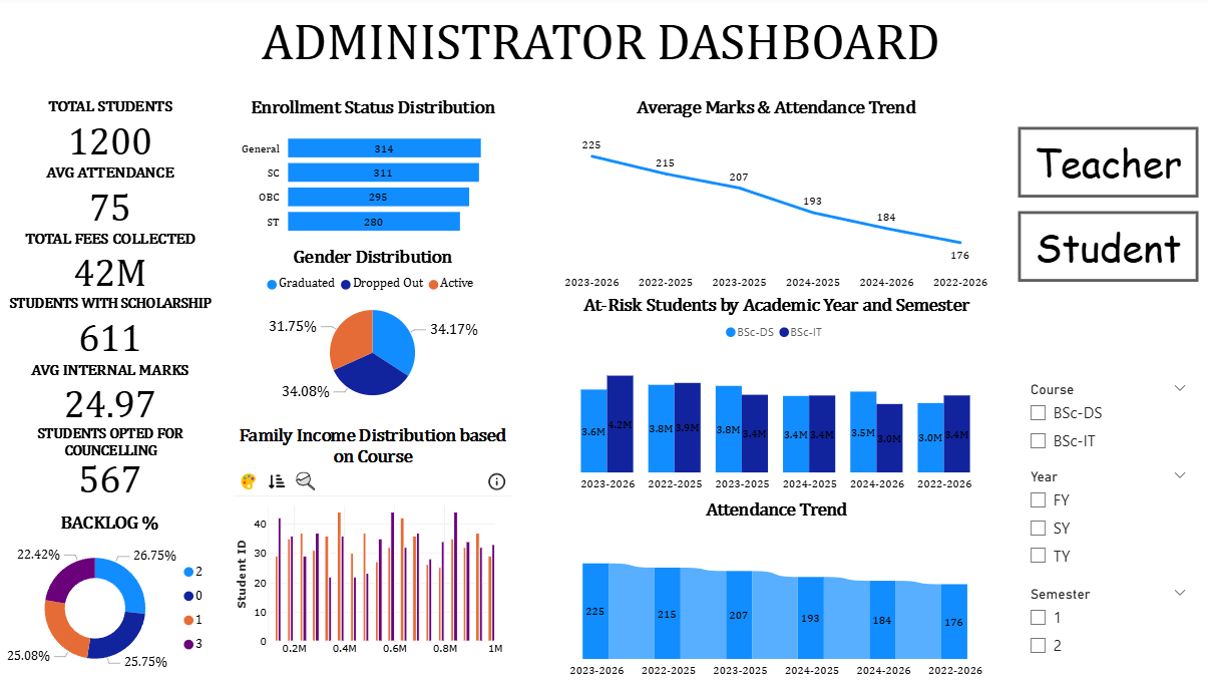

What the dashboard file says about the page in this screenshot:
{"tool":"powerbi","page":{"name":"Administrator","canvas":[1280,720],"ordinal":0},"visuals":[{"type":"card","title":"TOTAL STUDENTS","fields":{"Values":["CountNonNull(fake_student_performance_dataset.Student ID)"]},"box":[9.8,107.7,223.8,68.6],"z":0},{"type":"card","title":"TOTAL FEES COLLECTED","fields":{"Values":["Sum(fake_student_performance_dataset.Fees Paid)"]},"box":[9.5,245.7,223.7,67.7],"z":1000},{"type":"card","title":"AVG ATTENDANCE","fields":{"Values":["Avg(fake_student_performance_dataset.Attendance %)"]},"box":[9.5,176.4,223.7,69.3],"z":2000},{"type":"card","title":"STUDENTS WITH SCHOLARSHIP","fields":{"Values":["at_risk_predictions.ScholarshipReceivedCount"]},"box":[9.8,313.4,223.8,68.6],"z":3000},{"type":"clusteredBarChart","title":"Enrollment Status Distribution","fields":{"Y":["CountNonNull(fake_student_performance_dataset.Performance Level)"],"Category":["fake_student_performance_dataset.Caste"]},"box":[245.7,107.1,300.8,154.4],"z":4000},{"type":"clusteredColumnChart","title":"At-Risk Students by Academic Year and Semester","fields":{"Y":["Sum(fake_student_performance_dataset.Fees Paid)"],"Category":["fake_student_performance_dataset.Academic Year"],"Series":["fake_student_performance_dataset.Course"]},"box":[581.2,313.4,475.7,211.1],"z":5000},{"type":"pieChart","title":"Gender Distribution","fields":{"Y":["CountNonNull(fake_student_performance_dataset.Student ID)"],"Category":["fake_student_performance_dataset.Enrollment Status"]},"box":[246.2,263,300.8,172.1],"z":6000},{"type":"lineChart","title":"Average Marks & Attendance Trend","fields":{"Category":["fake_student_performance_dataset.Academic Year"],"Y":["CountNonNull(fake_student_performance_dataset.Student ID)"]},"box":[581.2,107.1,475.7,206.3],"z":7000},{"type":"card","title":"AVG INTERNAL MARKS","fields":{"Values":["Avg(fake_student_performance_dataset.Internal Marks)"]},"box":[9.5,382.7,223.7,67.7],"z":8000},{"type":"card","title":"STUDENTS OPTED FOR COUNCELLING","fields":{"Values":["at_risk_predictions.CouncellingSupportCount"]},"box":[9.5,450.5,223.7,77.2],"z":9000},{"type":"donutChart","title":"BACKLOG %","fields":{"Category":["fake_student_performance_dataset.Backlogs"],"Y":["CountNonNull(fake_student_performance_dataset.Student ID)"]},"box":[8.4,541.4,225.2,179.1],"z":10000},{"type":"histogramF963F133BA02A0B35D286F09F80E9C78","title":"Family Income Distribution based on Course","fields":{"col_2":["Sum(fake_student_performance_dataset.Family Income)"],"col_3":["fake_student_performance_dataset.Student ID"],"col_1":["fake_student_performance_dataset.Course"],"col_4":["fake_student_performance_dataset.Family Income (bins)"]},"box":[245.7,450.5,300.8,253.6],"z":11000},{"type":"ribbonChart","title":"Attendance Trend","fields":{"Category":["fake_student_performance_dataset.Academic Year"],"Y":["CountNonNull(fake_student_performance_dataset.Attendance %)"]},"box":[581.2,527.7,475.7,192.2],"z":12000},{"type":"actionButton","box":[1072.6,137,189,74],"z":13000},{"type":"actionButton","box":[1072.6,225.2,189,74],"z":14000},{"type":"slicer","fields":{"Values":["fake_student_performance_dataset.Course"]},"box":[1073,398.7,188.9,90.9],"z":16000},{"type":"slicer","fields":{"Values":["fake_student_performance_dataset.Year"]},"box":[1073,489.6,188.9,123.1],"z":17000},{"type":"slicer","fields":{"Values":["fake_student_performance_dataset.Semester"]},"box":[1073,612.8,188.9,90.9],"z":18000},{"type":"shape","box":[9.8,12.6,1252.1,76.9],"z":19000}]}

Visuals, with their boxes in screenshot pixels (x1, y1, x2, y2), scaled from the page's 1280x720 canvas onto the 1208x682 screenshot:
"TOTAL STUDENTS" card: 9, 102, 220, 167
"TOTAL FEES COLLECTED" card: 9, 233, 220, 297
"AVG ATTENDANCE" card: 9, 167, 220, 233
"STUDENTS WITH SCHOLARSHIP" card: 9, 297, 220, 362
"Enrollment Status Distribution" clusteredBarChart: 232, 101, 516, 248
"At-Risk Students by Academic Year and Semester" clusteredColumnChart: 549, 297, 997, 497
"Gender Distribution" pieChart: 232, 249, 516, 412
"Average Marks & Attendance Trend" lineChart: 549, 101, 997, 297
"AVG INTERNAL MARKS" card: 9, 363, 220, 427
"STUDENTS OPTED FOR COUNCELLING" card: 9, 427, 220, 500
"BACKLOG %" donutChart: 8, 513, 220, 681
"Family Income Distribution based on Course" histogramF963F133BA02A0B35D286F09F80E9C78: 232, 427, 516, 667
"Attendance Trend" ribbonChart: 549, 500, 997, 681
actionButton: 1012, 130, 1191, 200
actionButton: 1012, 213, 1191, 283
slicer - fake_student_performance_dataset.Course: 1013, 378, 1191, 464
slicer - fake_student_performance_dataset.Year: 1013, 464, 1191, 580
slicer - fake_student_performance_dataset.Semester: 1013, 580, 1191, 667
shape: 9, 12, 1191, 85
